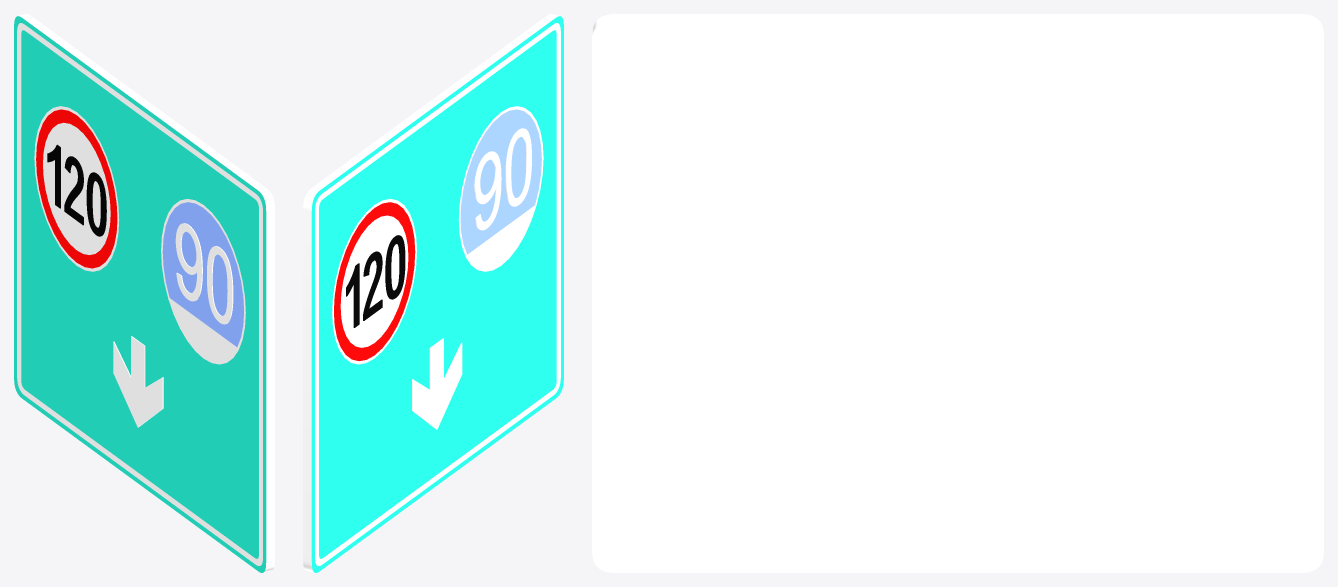
File: Speed_Limit_90-120.glb
3 renders of one model, left to right at view 1: azimuth 30°, elevation 25°; view 2: azimuth 150°, elevation 25°; view 3: azimuth 270°, elevation 25°, orthographic. The views are drawn at different scales.
Parts seen in each view (by area): view 1: Speed_Limit_90_120; view 2: Speed_Limit_90_120; view 3: Speed_Limit_90_120.
Boxes of the visible parts, x1,y1,x2,y2 form: Speed_Limit_90_120: (14,14,274,572); Speed_Limit_90_120: (303,14,563,572); Speed_Limit_90_120: (592,14,1323,572).
Bounding box in the file's own units: 0.0331 × 1.25 × 1.5.
